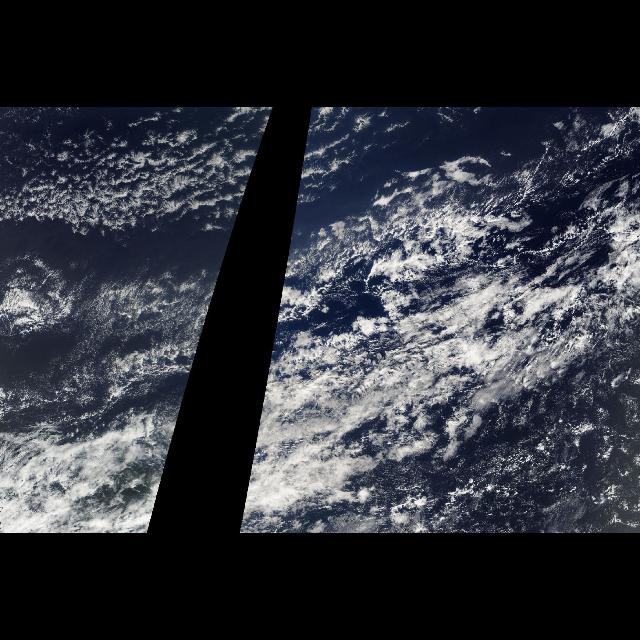Sugar: (25, 236, 223, 420)
